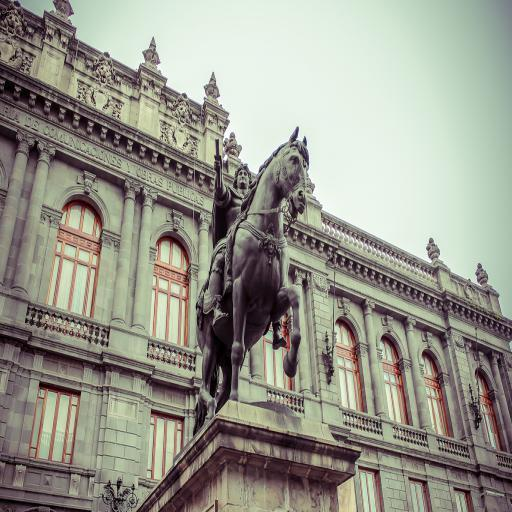horse: (194, 126, 311, 436)
